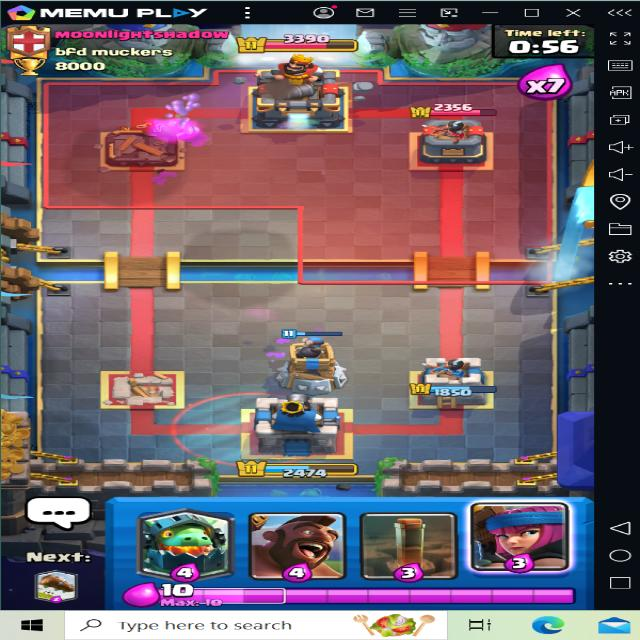clone: (172, 388, 303, 465)
